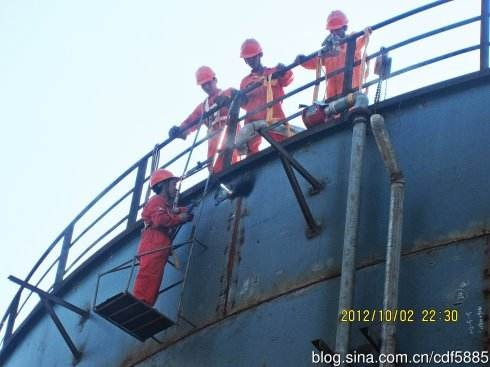red: (146, 167, 179, 199), (239, 37, 266, 72), (192, 65, 219, 96), (323, 7, 349, 39)
